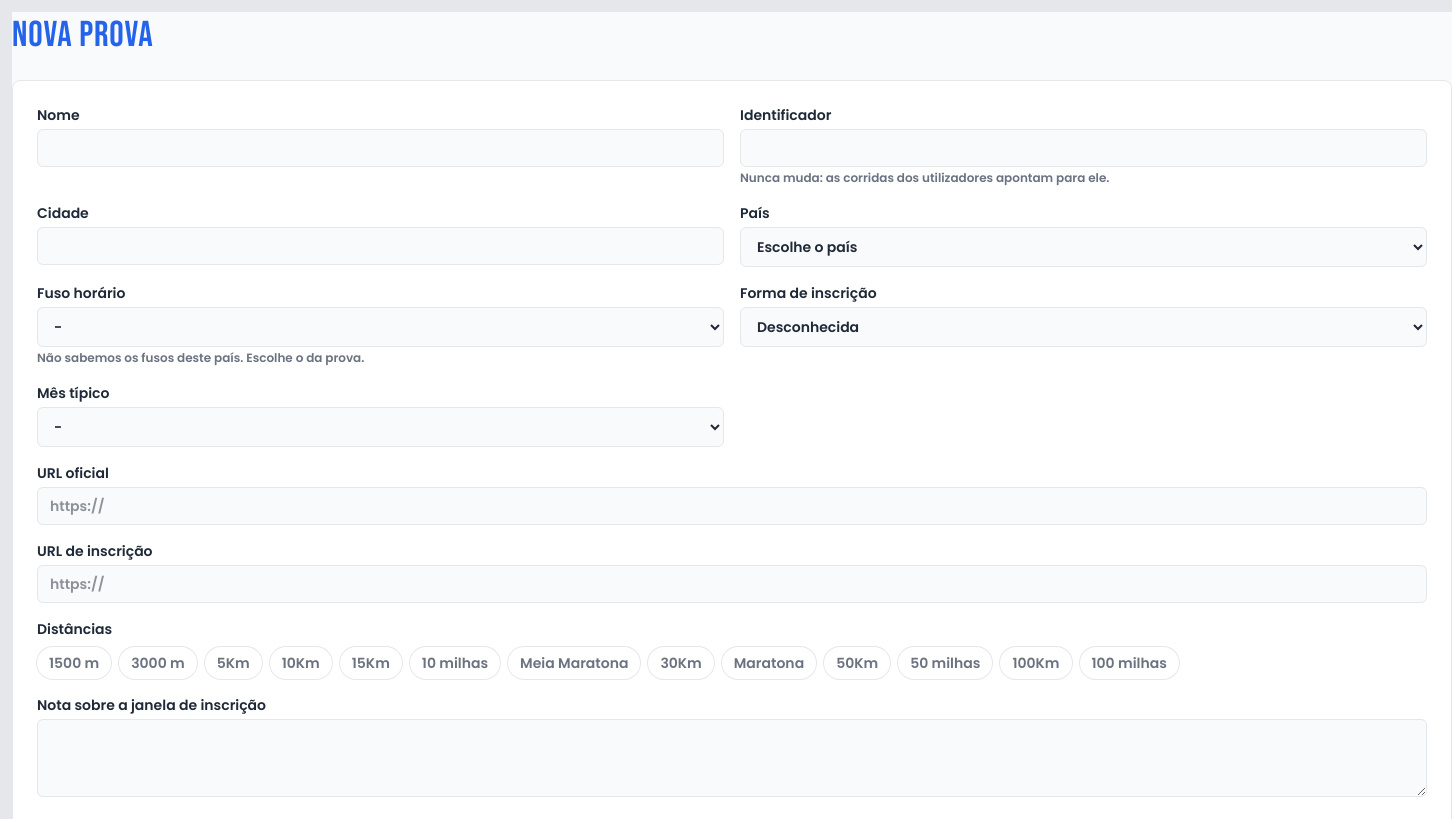
Test: AdminCatalogForm › does not ask for a zone the country already answers
This screenshot has width=1452, height=819.
Select "Alemanha" in the dropdown labelled "País": (1084, 247) [740, 227, 1427, 267]
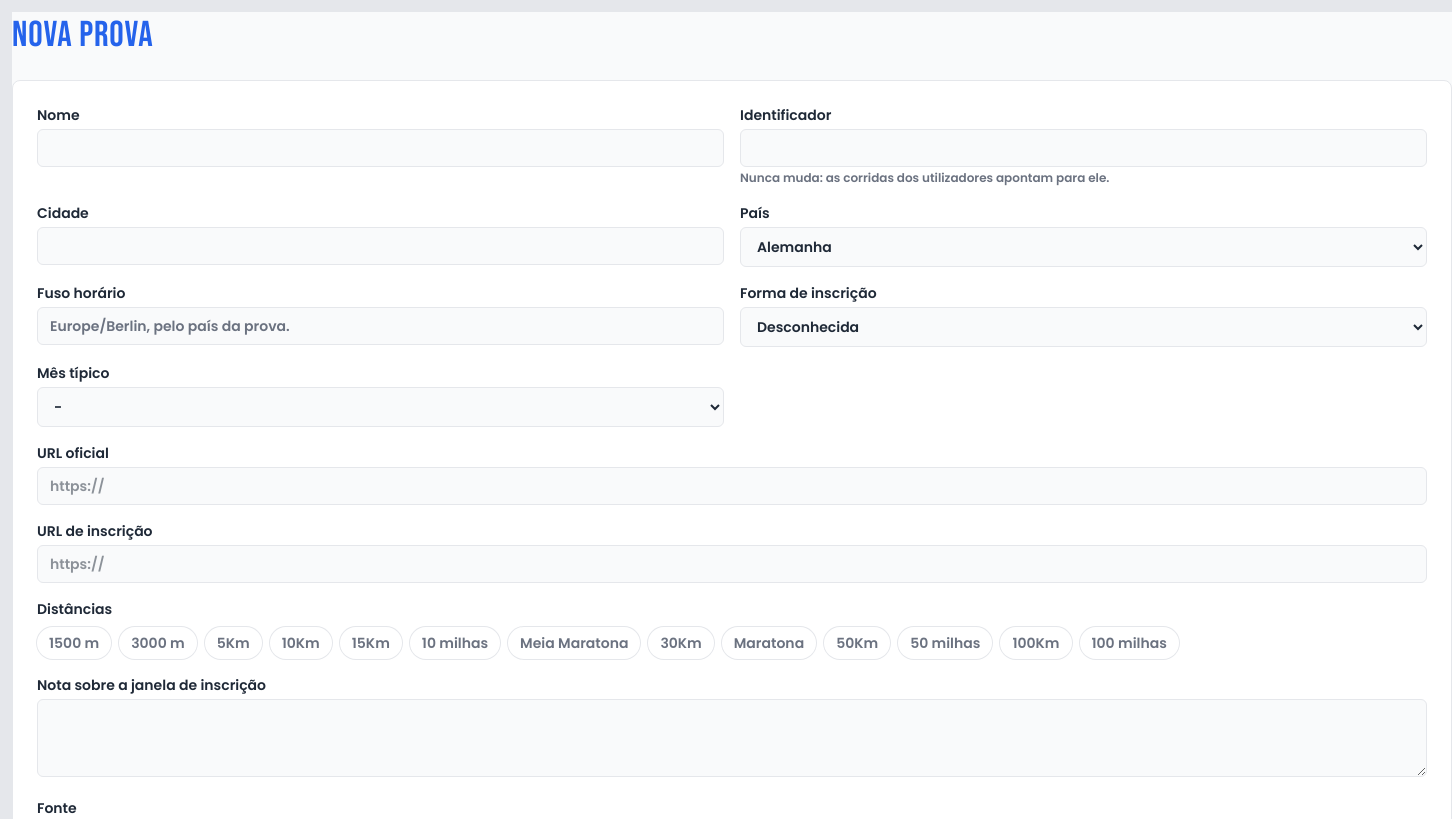
Expected: the text "Europe/Berlin, pelo país da prova." is shown, [37, 307, 724, 345]
